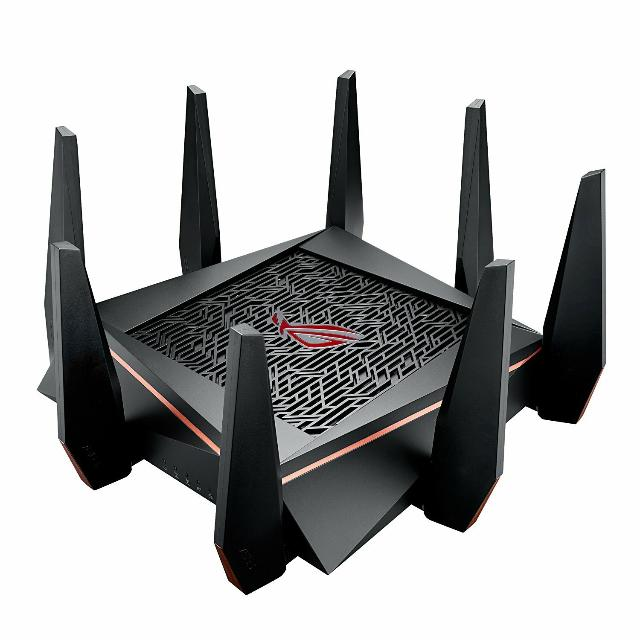Router: (35, 71, 606, 597)
